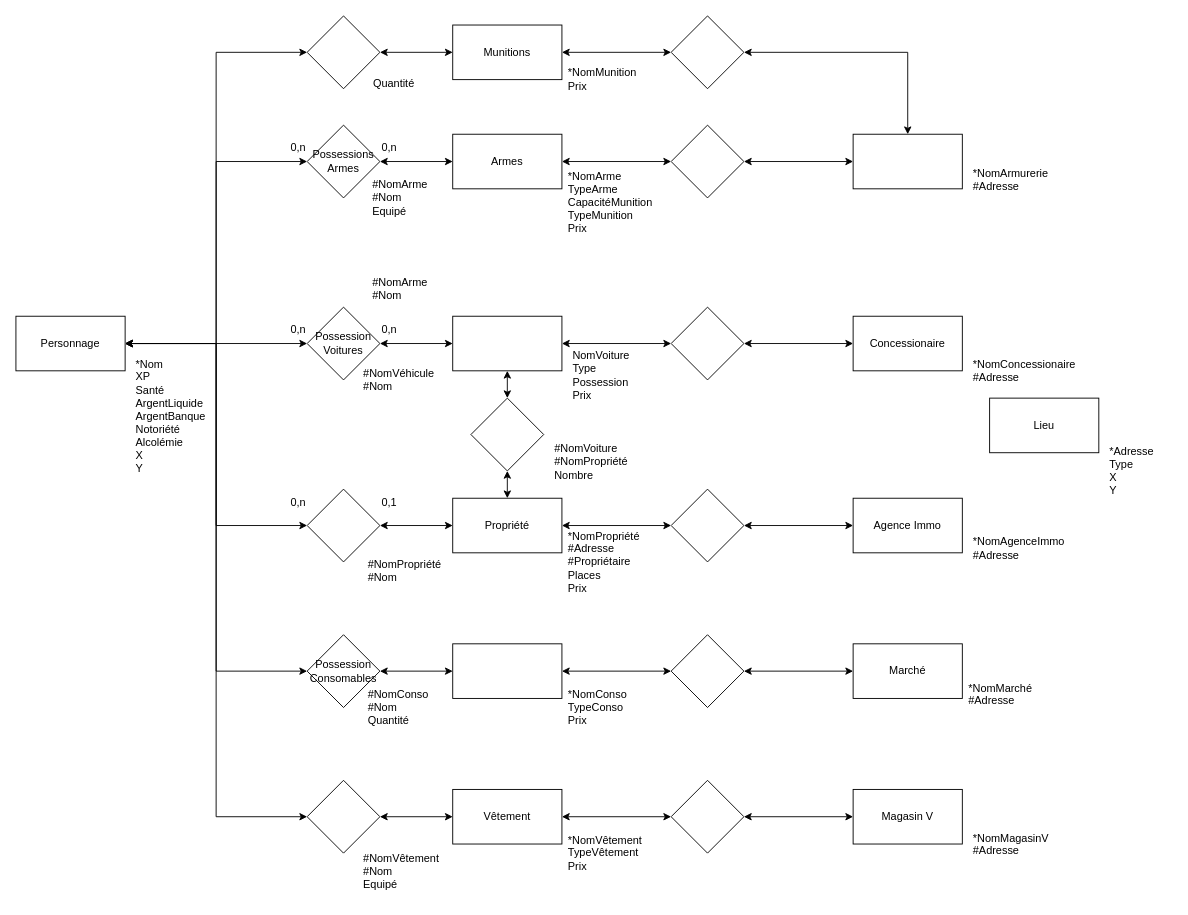
The diagram is 1188 pixels wide and 915 high, and some of its shapes have lost their labels. The shapes that lost their labels are listed below. From the top down, each one's centre as x and y in pixels, then its label:
the point at 343,52: Possession Munition
the point at 907,161: Armurerie
the point at 507,343: Vehicules
the point at 507,434: Garage
the point at 343,525: Possession Propriété
the point at 507,670: Consomables
the point at 343,816: Possession Vêtement
